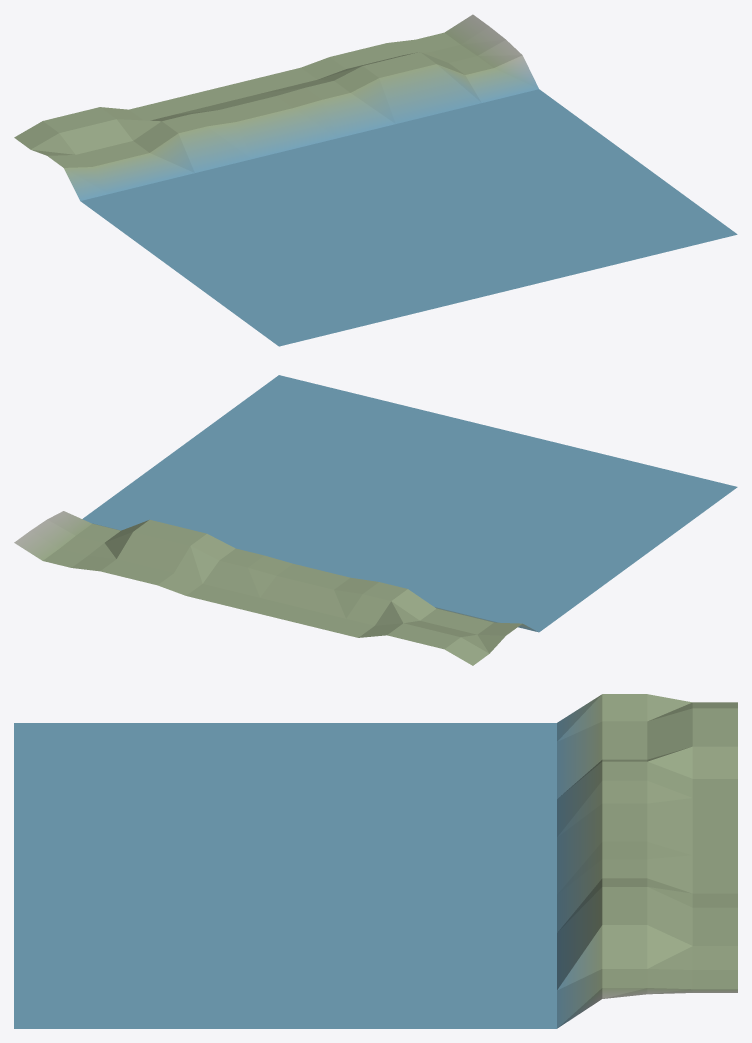
3 views of the same model, one above another, from view 1: azimuth 30°, elevation 25°; view 2: azimuth 150°, elevation 25°; view 3: azimuth 270°, elevation 25° (orthographic). The views are drawn at different scales.
Bounding box in the file's own units: 32 × 2.26 × 32.
